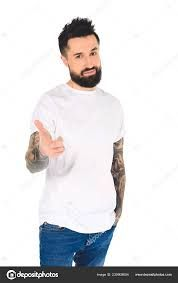no-mask: (51, 18, 109, 88)
